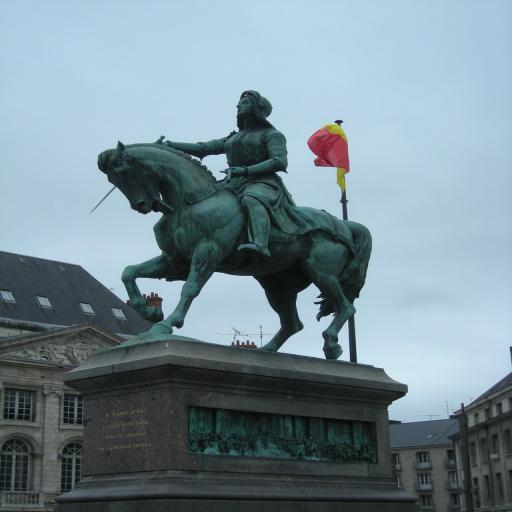Horse: (96, 140, 374, 336)
